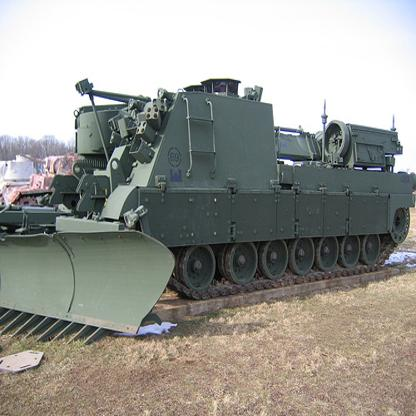Tank: (1, 67, 416, 347)
